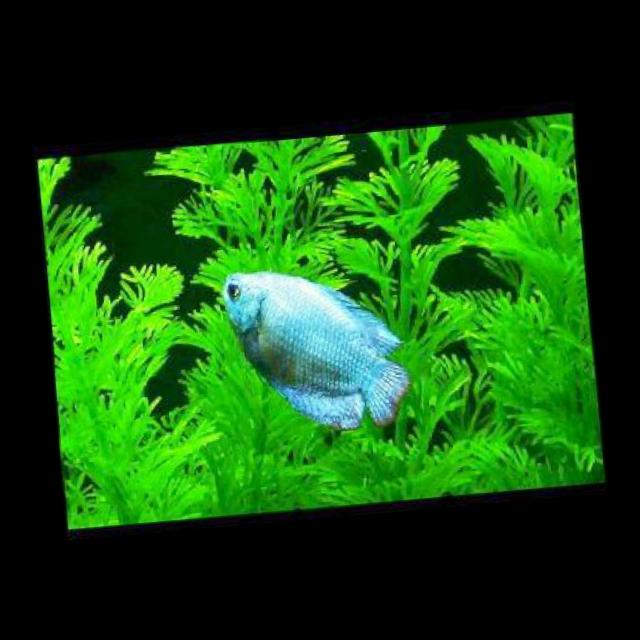Gourami: (221, 256, 418, 436)
